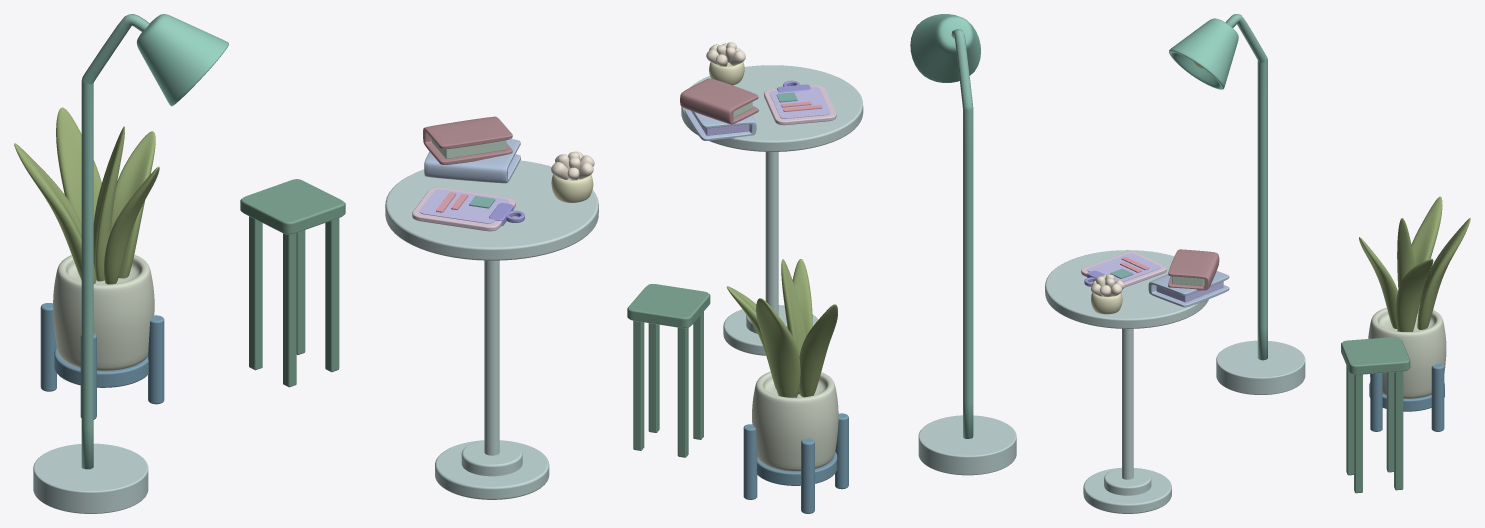
Rendered from table.glb.
3 views of the same model, side by side, from view 1: azimuth 30°, elevation 25°; view 2: azimuth 150°, elevation 25°; view 3: azimuth 270°, elevation 25° (orthographic). The views are drawn at different scales.
Visible parts, largest first — view 1: Cylinder (×3), Cylinder 3 (×2), Cube 5 (×2), Cube 6 (×2), Cylinder 2 (×2), Rectangle 2 (×2), Cylinder 4 (×2), Cube 9 (×2), Cube 11 (×2), book-pink, Cube 7, book-blue-depth (+5 smaller); view 2: Cylinder (×3), Cylinder 3 (×2), Cube 5 (×2), Cube 6 (×2), Rectangle 2 (×2), Cylinder 4 (×2), Cube 11 (×2), Cube 9 (×2), book-pink, Cylinder 2 (×2), Cube 7, Cube 10 (+4 smaller); view 3: Cylinder (×3), Cube 5 (×2), Cube 6 (×2), Cylinder 3 (×2), Cylinder 4 (×3), Rectangle 2 (×2), Cylinder 2, Cube 11 (×2), Cube 9 (×2), book-pink, Cube 7, book-blue-depth (+4 smaller).
Boxes of the visible parts, box(x1,y1,x2,y2) form: Cylinder (×3): box(33, 160, 598, 513); Cylinder 3 (×2): box(53, 254, 522, 476); Cube 5 (×2): box(56, 14, 149, 469); Cube 6 (×2): box(111, 14, 228, 278); Cylinder 2 (×2): box(40, 303, 549, 499); Rectangle 2 (×2): box(240, 179, 515, 234); Cylinder 4 (×2): box(148, 260, 499, 455); Cube 9 (×2): box(93, 126, 296, 387); Cube 11 (×2): box(296, 218, 339, 372); book-pink: box(423, 116, 512, 164); Cube 7: box(14, 143, 96, 283); book-blue-depth: box(424, 139, 520, 183); Cylinder (×3): box(681, 65, 1016, 485); Cylinder 3 (×2): box(752, 371, 848, 489); Cube 5 (×2): box(756, 29, 973, 438); Cube 6 (×2): box(727, 14, 980, 388); Rectangle 2 (×2): box(627, 85, 836, 328); Cylinder 4 (×2): box(743, 152, 778, 499); Cube 11 (×2): box(633, 320, 659, 450); Cube 9 (×2): box(693, 259, 806, 439); book-pink: box(680, 78, 758, 124); Cylinder 2 (×2): box(723, 305, 818, 513); Cube 7: box(799, 304, 837, 397); Cube 10: box(677, 327, 688, 457); Cylinder (×3): box(1045, 250, 1444, 411); Cube 5 (×2): box(1225, 14, 1470, 360); Cube 6 (×2): box(1169, 18, 1433, 331); Cylinder 3 (×2): box(1104, 307, 1446, 495); Cylinder 4 (×3): box(1122, 328, 1444, 479); Rectangle 2 (×2): box(1081, 251, 1410, 374); Cylinder 2: box(1083, 467, 1171, 513); Cube 11 (×2): box(1354, 371, 1403, 493); Cube 9 (×2): box(1346, 218, 1414, 475); book-pink: box(1168, 249, 1219, 290); Cube 7: box(1411, 196, 1442, 266); book-blue-depth: box(1148, 271, 1229, 307).
Bounding box in the file's own units: 6.93 × 6.99 × 7.22.
